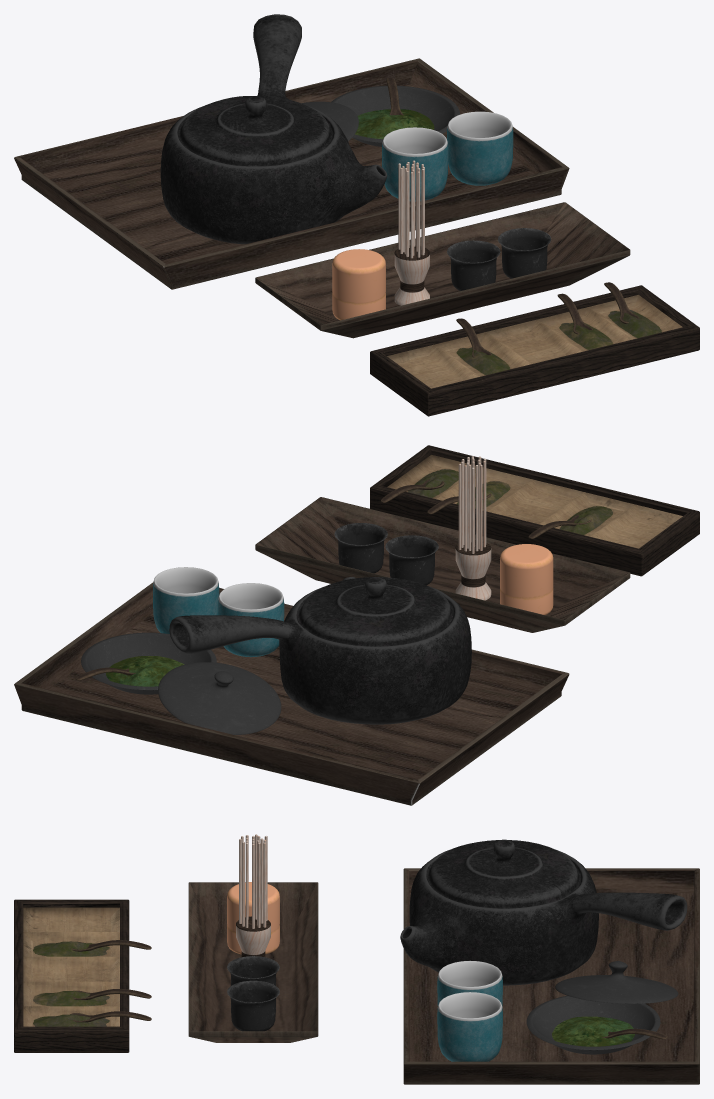
3 views of the same model, one above another, from view 1: azimuth 30°, elevation 25°; view 2: azimuth 150°, elevation 25°; view 3: azimuth 270°, elevation 25° (orthographic).
Parts seen in each view (by area): view 1: MTHTray1.Shape, MTHPot1.Shape, MTHTeaTray1.Shape, MTHTray3.Shape, MTHTeaContainer2.Shape, MTHCup1_dup_2.Shape, MTHBrush.Shape, MTHCup1.Shape, MTHContainer.Shape, MTHCup2_dup_2.Shape, MTHCup2.Shape, MTHTeaContainer2Cap.Shape; view 2: MTHTray1.Shape, MTHPot1.Shape, MTHTeaTray1.Shape, MTHTray3.Shape, MTHTeaContainer2Cap.Shape, MTHTeaContainer2.Shape, MTHBrush.Shape, MTHContainer.Shape, MTHCup1_dup_2.Shape, MTHCup1.Shape, MTHCup2.Shape, MTHCup2_dup_2.Shape; view 3: MTHTray1.Shape, MTHPot1.Shape, MTHTeaTray1.Shape, MTHTray3.Shape, MTHTeaContainer2.Shape, MTHCup1_dup_2.Shape, MTHBrush.Shape, MTHTeaContainer2Cap.Shape, MTHCup2.Shape, MTHCup1.Shape, MTHContainer.Shape, MTHCup2_dup_2.Shape (+3 smaller).
Part boxes in pixels (<box>): MTHTray1.Shape: <box>14,58,569,289</box>; MTHPot1.Shape: <box>160,14,387,244</box>; MTHTeaTray1.Shape: <box>370,285,699,416</box>; MTHTray3.Shape: <box>255,202,630,338</box>; MTHTeaContainer2.Shape: <box>331,85,459,146</box>; MTHCup1_dup_2.Shape: <box>447,111,513,185</box>; MTHBrush.Shape: <box>394,160,429,305</box>; MTHCup1.Shape: <box>382,127,448,201</box>; MTHContainer.Shape: <box>332,249,385,320</box>; MTHCup2_dup_2.Shape: <box>447,240,500,290</box>; MTHCup2.Shape: <box>498,228,551,278</box>; MTHTeaContainer2Cap.Shape: <box>301,101,358,141</box>; MTHTray1.Shape: <box>14,582,569,805</box>; MTHPot1.Shape: <box>169,576,471,724</box>; MTHTeaTray1.Shape: <box>370,445,699,576</box>; MTHTray3.Shape: <box>255,497,630,632</box>; MTHTeaContainer2Cap.Shape: <box>158,662,281,734</box>; MTHTeaContainer2.Shape: <box>81,632,216,694</box>; MTHBrush.Shape: <box>455,456,491,600</box>; MTHContainer.Shape: <box>500,544,553,615</box>; MTHCup1_dup_2.Shape: <box>153,567,219,633</box>; MTHCup1.Shape: <box>218,583,284,657</box>; MTHCup2.Shape: <box>334,523,387,573</box>; MTHCup2_dup_2.Shape: <box>385,535,438,585</box>; MTHTray1.Shape: <box>403,868,699,1084</box>; MTHPot1.Shape: <box>400,839,687,985</box>; MTHTeaTray1.Shape: <box>14,899,129,1052</box>; MTHTray3.Shape: <box>188,882,318,1042</box>; MTHTeaContainer2.Shape: <box>526,995,660,1054</box>; MTHCup1_dup_2.Shape: <box>437,992,502,1061</box>; MTHBrush.Shape: <box>236,834,270,957</box>; MTHTeaContainer2Cap.Shape: <box>555,961,678,1003</box>; MTHCup2.Shape: <box>227,980,279,1031</box>; MTHCup1.Shape: <box>437,960,502,1006</box>; MTHContainer.Shape: <box>227,882,279,954</box>; MTHCup2_dup_2.Shape: <box>227,956,279,985</box>.
Size of the model in its own units: 0.4739 by 0.1548 by 0.7022.
16 materials, 16 textured.
